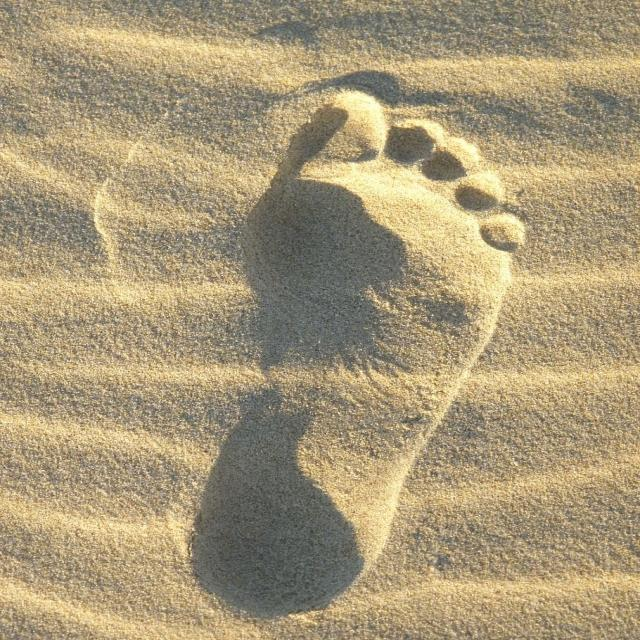human_foot_print: (184, 85, 529, 621)
